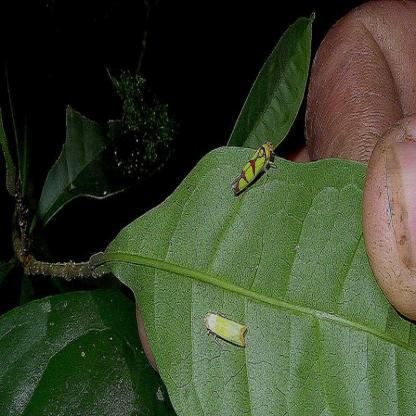green-leafhopper: (233, 134, 278, 200), (202, 300, 251, 357)
